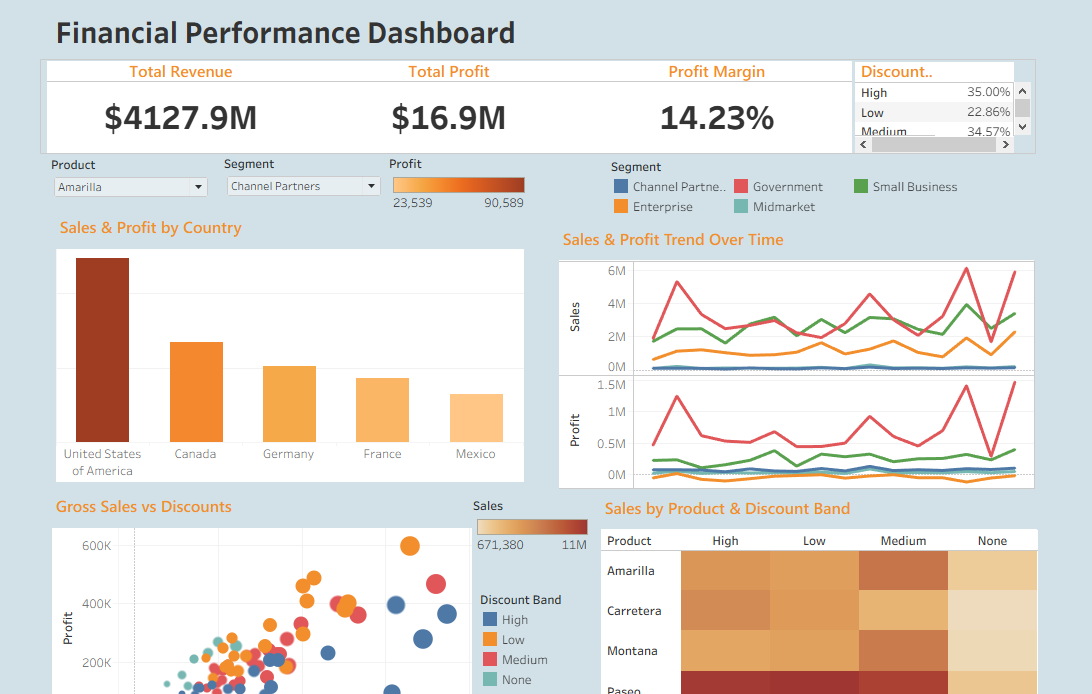

This screenshot's page, from the dashboard's own definition file:
{"tool":"tableau","page":{"name":"Financial Performance Dashboard","canvas":[1000,800],"ordinal":0},"visuals":[{"type":"title","box":[8,8,984,54]},{"type":"worksheet","title":"KPI ","mark":"Automatic","box":[6,65,805,93]},{"type":"worksheet","title":"Discount Distribution","mark":"Text","rows":["Discount Band "],"box":[814,66,176,91]},{"type":"filter","title":"Sales & Profit by Country","param":"[federated.19d1ld70mj1p4i1bhpg621m44vp5].[none:Segment:nk]","box":[183,159,160,63]},{"type":"legend","title":"Sales & Profit by Country","param":"[federated.19d1ld70mj1p4i1bhpg621m44vp5].[sum:Profit :qk]","box":[348,159,140,62]},{"type":"filter","title":"Sales & Profit by Country","param":"[federated.19d1ld70mj1p4i1bhpg621m44vp5].[none:Product :nk]","box":[10,160,160,58]},{"type":"legend","title":"Sales & Profit Trend Over Time","param":"[federated.19d1ld70mj1p4i1bhpg621m44vp5].[none:Segment:nk]","box":[570,162,429,58]},{"type":"worksheet","title":"Sales & Profit by Country","mark":"Automatic","rows":["Sales "],"cols":["Country"],"box":[15,216,468,270]},{"type":"worksheet","title":"Sales & Profit Trend Over Time","mark":"Line","rows":["Sales ","Profit "],"cols":["Date"],"box":[518,228,476,265]},{"type":"worksheet","title":"Gross Sales vs Discounts","mark":"Circle","rows":["Profit "],"cols":["Gross Sales "],"box":[11,495,420,295]},{"type":"worksheet","title":"Sales by Product & Discount Band","mark":"Automatic","rows":["Product "],"cols":["Discount Band "],"box":[560,497,437,299]},{"type":"legend","title":"Sales by Product & Discount Band","param":"[federated.19d1ld70mj1p4i1bhpg621m44vp5].[sum:Sales :qk]","box":[432,501,119,76]},{"type":"legend","title":"Gross Sales vs Discounts","param":"[federated.19d1ld70mj1p4i1bhpg621m44vp5].[none:Discount Band :nk]","box":[439,595,82,98]},{"type":"legend","title":"Gross Sales vs Discounts","param":"[federated.19d1ld70mj1p4i1bhpg621m44vp5].[sum:Sales :qk]","box":[437,696,95,98]}]}

Visuals, with their boxes on the page's 1000x800 design canvas (x1, y1, x2, y2). These are canvas units, not pixel positions in the 1092x694 screenshot, which may show the page scaled, cropped or inside an application window:
title: box=[8, 8, 992, 62]
"KPI " worksheet: box=[6, 65, 811, 158]
"Discount Distribution" worksheet (Text marks): box=[814, 66, 990, 157]
"Sales & Profit by Country" filter: box=[183, 159, 343, 222]
"Sales & Profit by Country" legend: box=[348, 159, 488, 221]
"Sales & Profit by Country" filter: box=[10, 160, 170, 218]
"Sales & Profit Trend Over Time" legend: box=[570, 162, 999, 220]
"Sales & Profit by Country" worksheet: box=[15, 216, 483, 486]
"Sales & Profit Trend Over Time" worksheet (Line marks): box=[518, 228, 994, 493]
"Gross Sales vs Discounts" worksheet (Circle marks): box=[11, 495, 431, 790]
"Sales by Product & Discount Band" worksheet: box=[560, 497, 997, 796]
"Sales by Product & Discount Band" legend: box=[432, 501, 551, 577]
"Gross Sales vs Discounts" legend: box=[439, 595, 521, 693]
"Gross Sales vs Discounts" legend: box=[437, 696, 532, 794]
